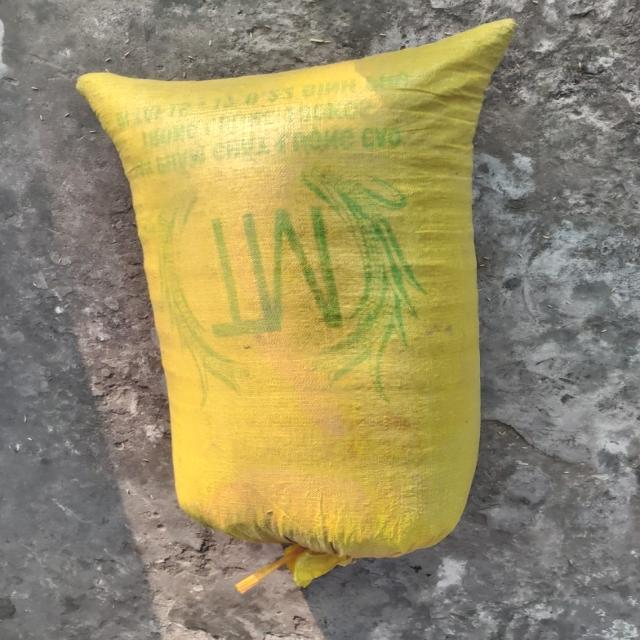gunny_bag: (77, 19, 515, 587)
